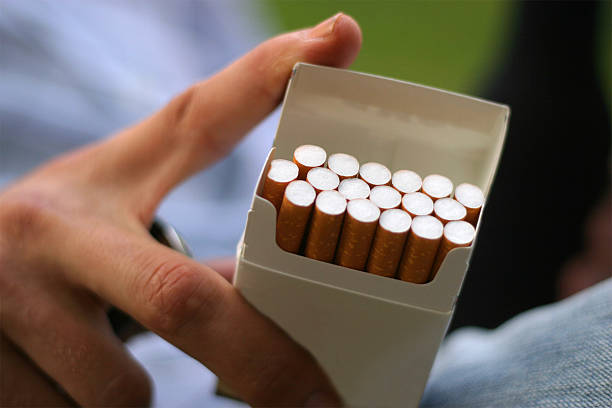cigarette: (213, 60, 512, 408), (397, 215, 444, 284), (303, 190, 346, 264), (336, 198, 379, 271), (367, 210, 412, 279), (275, 180, 315, 254), (428, 221, 476, 282), (261, 157, 300, 209), (452, 182, 485, 223), (293, 143, 328, 180), (432, 197, 467, 224), (326, 152, 360, 179), (369, 184, 402, 209), (358, 161, 392, 185), (306, 166, 340, 190), (423, 173, 453, 200), (338, 177, 371, 200), (393, 169, 423, 194), (402, 193, 433, 217)
